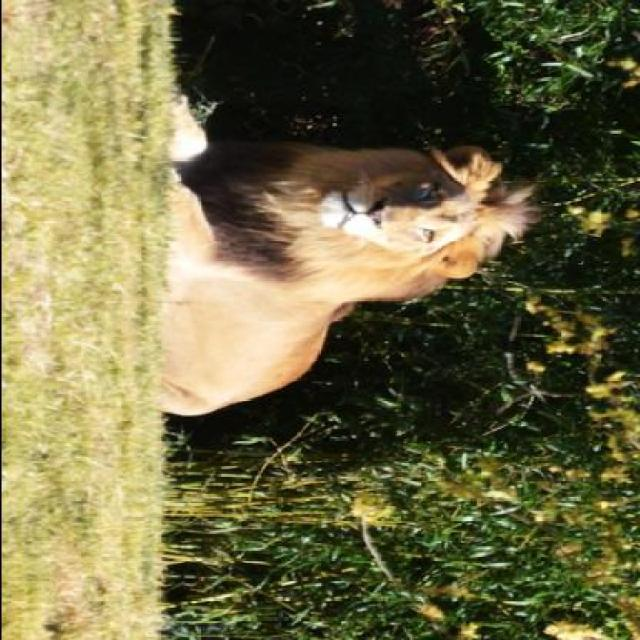Lion: (150, 85, 558, 423)
